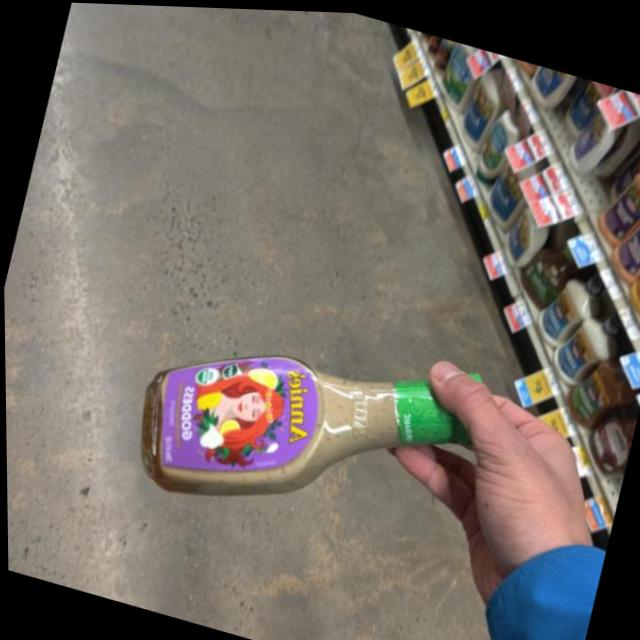Sauce: (89, 249, 556, 594)
